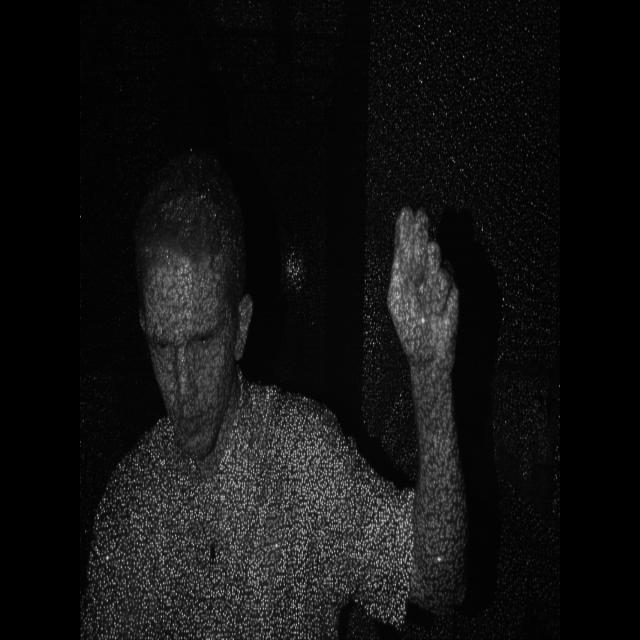N: (375, 172, 478, 377)
